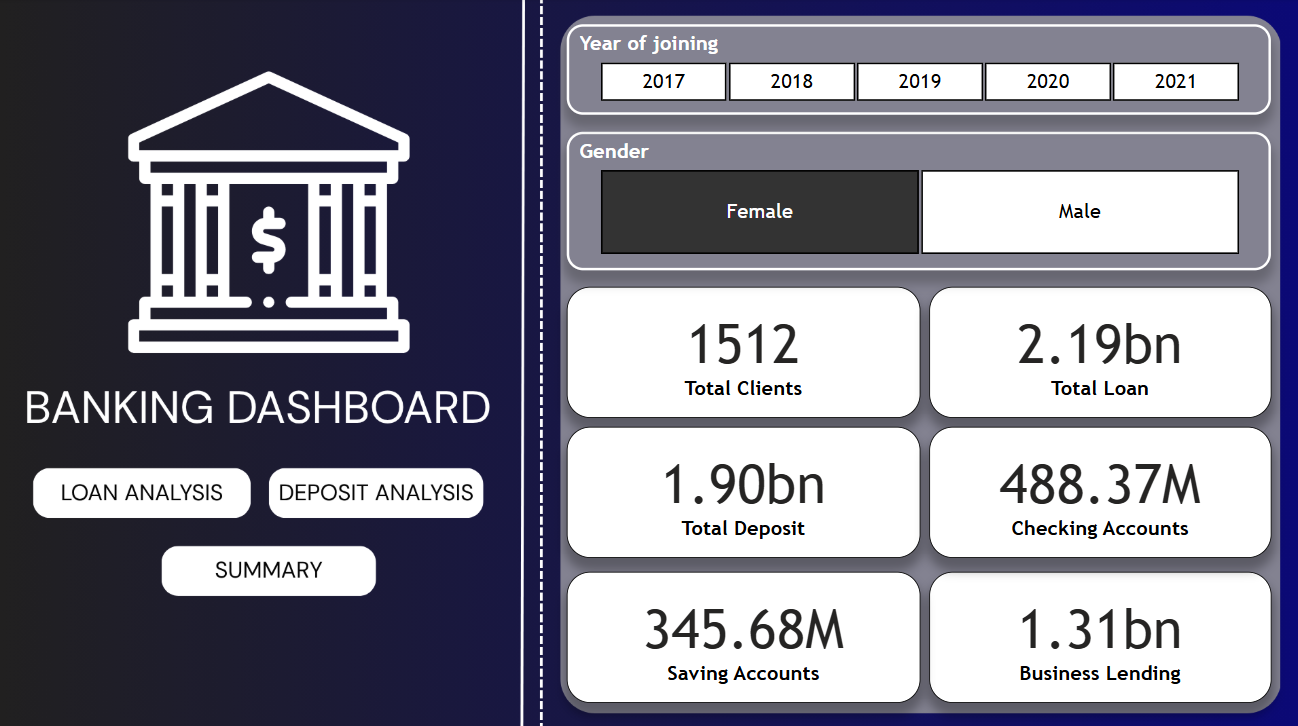

The page's visual inventory and layout, read from the dashboard file:
{"tool":"powerbi","page":{"name":"Home","canvas":[1280,720],"ordinal":0},"visuals":[{"type":"card","fields":{"Values":["CountNonNull(Banking.Client ID)"]},"box":[558.6,282.9,347.1,128.6],"z":0},{"type":"card","fields":{"Values":["Measures Table.Total Loan"]},"box":[914.3,282.9,335.7,128.6],"z":1000},{"type":"card","fields":{"Values":["Measures Table.Total Deposit"]},"box":[558.6,421.4,347.1,128.6],"z":2000},{"type":"card","fields":{"Values":["Sum(Banking.Business Lending)"]},"box":[914.3,562.9,335.7,128.6],"z":3000},{"type":"card","fields":{"Values":["Sum(Banking.Saving Accounts)"]},"box":[558.6,562.9,347.1,128.6],"z":4000},{"type":"card","fields":{"Values":["Sum(Banking.Checking Accounts)"]},"box":[914.3,421.4,335.7,128.6],"z":5000},{"type":"slicer","title":"Gender","fields":{"Values":["Banking.GenderId"]},"box":[558.6,131.4,691.4,135.7],"z":6000},{"type":"slicer","title":"Year of joining","fields":{"Values":["Banking.Year of Joining"]},"box":[558.6,25.7,691.4,88.6],"z":7000},{"type":"actionButton","box":[32.5,455,217.5,62.5],"z":8000},{"type":"actionButton","box":[262.9,455.7,217.1,61.4],"z":9000},{"type":"actionButton","box":[154.3,531.4,217.1,61.4],"z":10000}]}

Visuals, with their boxes in screenshot pixels (x1, y1, x2, y2), scaled from the page's 1280x720 canvas onto the 1298x726 screenshot:
card - CountNonNull(Banking.Client ID): 566,285,918,415
card - Measures Table.Total Loan: 927,285,1268,415
card - Measures Table.Total Deposit: 566,425,918,555
card - Sum(Banking.Business Lending): 927,568,1268,697
card - Sum(Banking.Saving Accounts): 566,568,918,697
card - Sum(Banking.Checking Accounts): 927,425,1268,555
"Gender" slicer: 566,132,1268,269
"Year of joining" slicer: 566,26,1268,115
actionButton: 33,459,254,522
actionButton: 267,459,487,521
actionButton: 156,536,377,598
